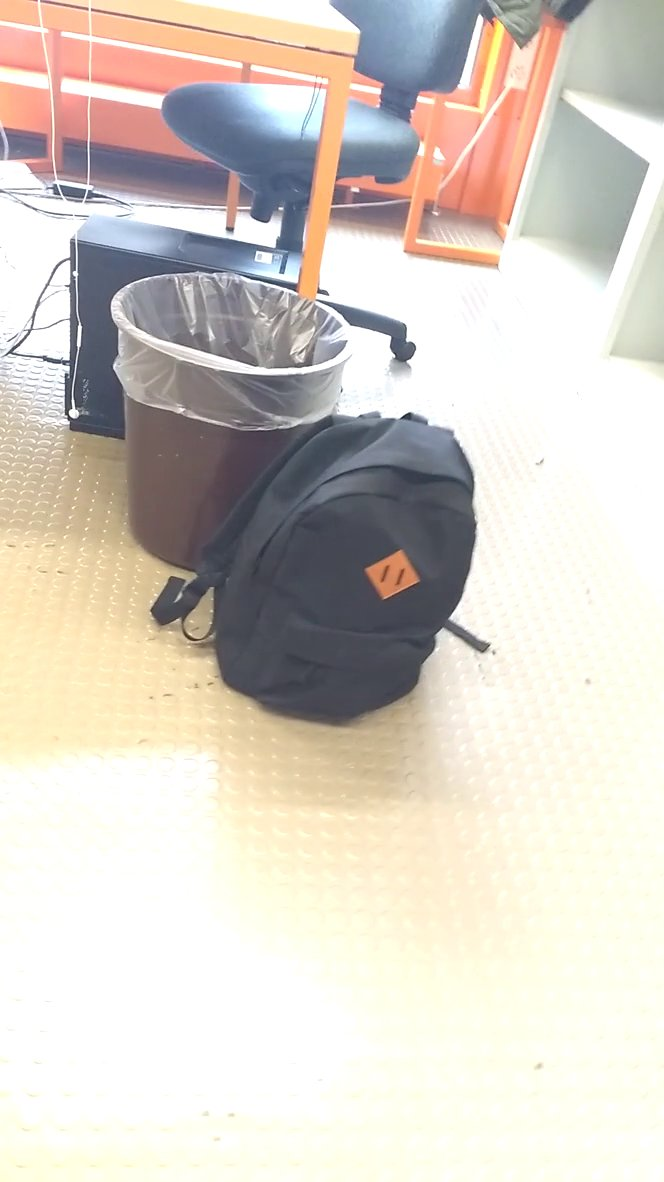bag: (144, 406, 488, 734)
bin: (102, 259, 369, 492)
chair: (168, 1, 499, 366)
